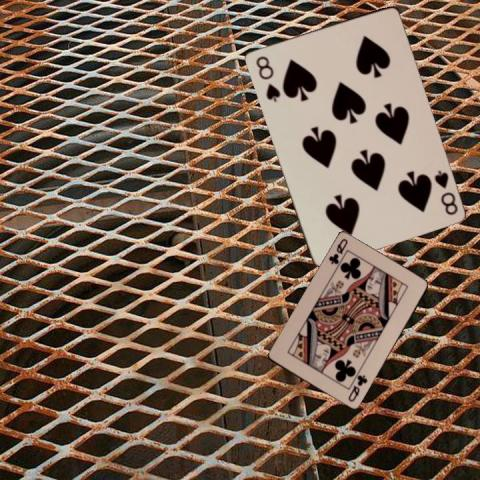8s: (252, 53, 281, 103), (431, 167, 459, 217)
Qc: (345, 372, 369, 403), (326, 236, 350, 266)
